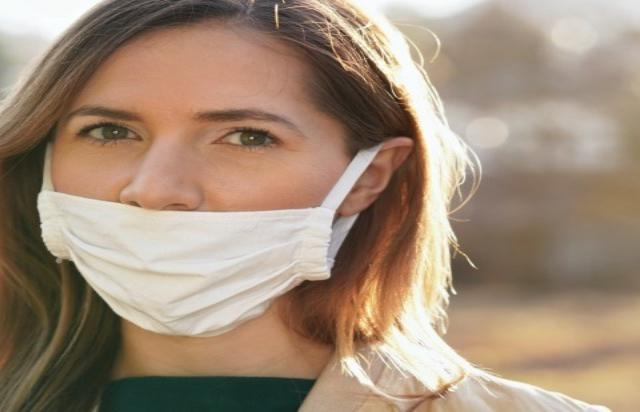mask_weared_incorrect: (34, 1, 450, 341)
